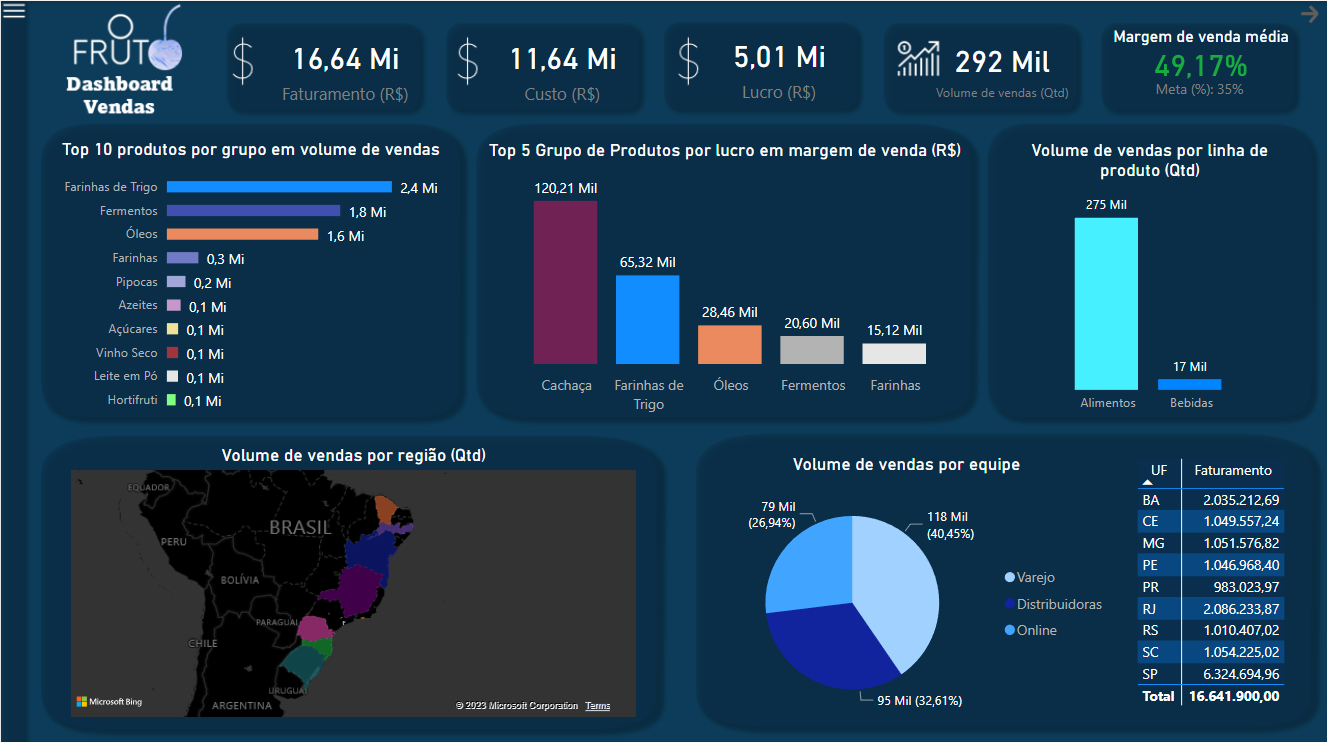

Layout of this report page (visuals, bound fields, positions):
{"tool":"powerbi","page":{"name":"Dash_geral","canvas":[1280,720],"ordinal":0},"visuals":[{"type":"clusteredBarChart","title":"Top 10 produtos por grupo em volume de vendas","fields":{"Category":["Dim_produtos.Grupo_Produto"],"Y":["Medidas.Total_itens_vendidos"]},"box":[48.1,133.2,385.9,271.9],"z":0},{"type":"clusteredColumnChart","title":"Volume de vendas por linha de produto (Qtd)","fields":{"Y":["Medidas.Volume_vendas"],"Category":["Dim_produtos.Linha_Produto"]},"box":[958.8,133.9,299.1,271.4],"z":1000},{"type":"lineStackedColumnComboChart","title":"Top 5 Grupo de Produtos por lucro em margem de venda (R$)","fields":{"Y":["Sum(Fato_vendas.Lucro_produto)"],"Category":["Dim_produtos.Grupo_Produto"]},"box":[465.7,134.5,465.7,271.4],"z":2000},{"type":"card","fields":{"Values":["Medidas.Faturamento"]},"box":[261.7,21.7,141.1,85.6],"z":3000},{"type":"card","fields":{"Values":["Medidas.Lucro"]},"box":[670.6,21.7,160.4,82],"z":4000},{"type":"kpi","title":"Margem de venda média","fields":{"Indicator":["Avg(Fato_vendas.Margem)"],"Goal":["Medidas.Meta_margem"],"TrendLine":["Tb_calendario.Date.Variation.Hierarquia de datas.Ano"]},"box":[1066.1,25.3,183.3,82],"z":5000},{"type":"card","fields":{"Values":["Medidas.Custo_total"]},"box":[465.5,21.7,152,85.6],"z":6000},{"type":"card","fields":{"Values":["Medidas.Volume_vendas"]},"box":[892.5,21.7,147.1,85.6],"z":7000},{"type":"filledMap","title":"Volume de vendas por região (Qtd)","fields":{"Category":["Dim_regional.Descrição"],"Series":["Dim_regional.Regional"]},"box":[62.7,428.1,554.8,267.7],"z":8000},{"type":"pieChart","title":"Volume de vendas por equipe","fields":{"Category":["Dim_vendedores.Equipe_Vendas"],"Y":["Medidas.Volume_vendas"]},"box":[670.6,436.6,406.4,268.9],"z":9000},{"type":"tableEx","fields":{"Values":["Dim_regional.UF","Medidas.Faturamento"]},"box":[1090.3,436.6,159.2,249.6],"z":10000},{"type":"actionButton","box":[0,0,24.9,21.6],"z":11000},{"type":"actionButton","box":[1249.4,0,30.2,25.3],"z":13000}]}

Visuals, with their boxes in screenshot pixels (x1, y1, x2, y2), scaled from the page's 1280x720 canvas onto the 1327x742 screenshot:
"Top 10 produtos por grupo em volume de vendas" clusteredBarChart: (x1=50, y1=137, x2=450, y2=417)
"Volume de vendas por linha de produto (Qtd)" clusteredColumnChart: (x1=994, y1=138, x2=1304, y2=418)
"Top 5 Grupo de Produtos por lucro em margem de venda (R$)" lineStackedColumnComboChart: (x1=483, y1=139, x2=966, y2=418)
card - Medidas.Faturamento: (x1=271, y1=22, x2=418, y2=111)
card - Medidas.Lucro: (x1=695, y1=22, x2=862, y2=107)
"Margem de venda média" kpi: (x1=1105, y1=26, x2=1295, y2=111)
card - Medidas.Custo_total: (x1=483, y1=22, x2=640, y2=111)
card - Medidas.Volume_vendas: (x1=925, y1=22, x2=1078, y2=111)
"Volume de vendas por região (Qtd)" filledMap: (x1=65, y1=441, x2=640, y2=717)
"Volume de vendas por equipe" pieChart: (x1=695, y1=450, x2=1117, y2=727)
tableEx - Dim_regional.UF x Medidas.Faturamento: (x1=1130, y1=450, x2=1295, y2=707)
actionButton: (x1=0, y1=0, x2=26, y2=22)
actionButton: (x1=1295, y1=0, x2=1326, y2=26)
